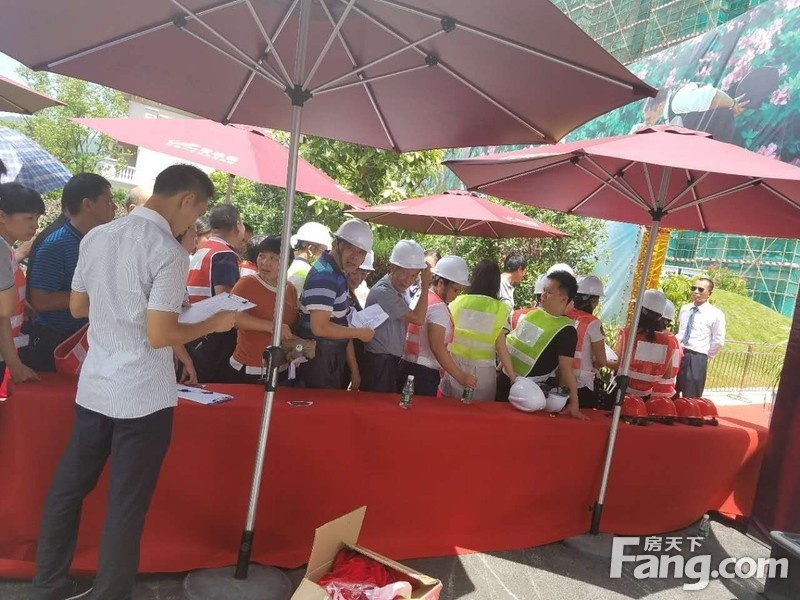none: (146, 158, 214, 234), (59, 170, 118, 233), (1, 178, 47, 241), (251, 234, 292, 281), (537, 270, 575, 315), (209, 200, 245, 244), (466, 254, 500, 299), (688, 275, 714, 307), (502, 251, 528, 282)
white: (328, 217, 372, 273), (386, 238, 427, 291), (431, 254, 469, 301), (295, 218, 332, 265), (573, 273, 605, 315), (634, 289, 665, 326)
